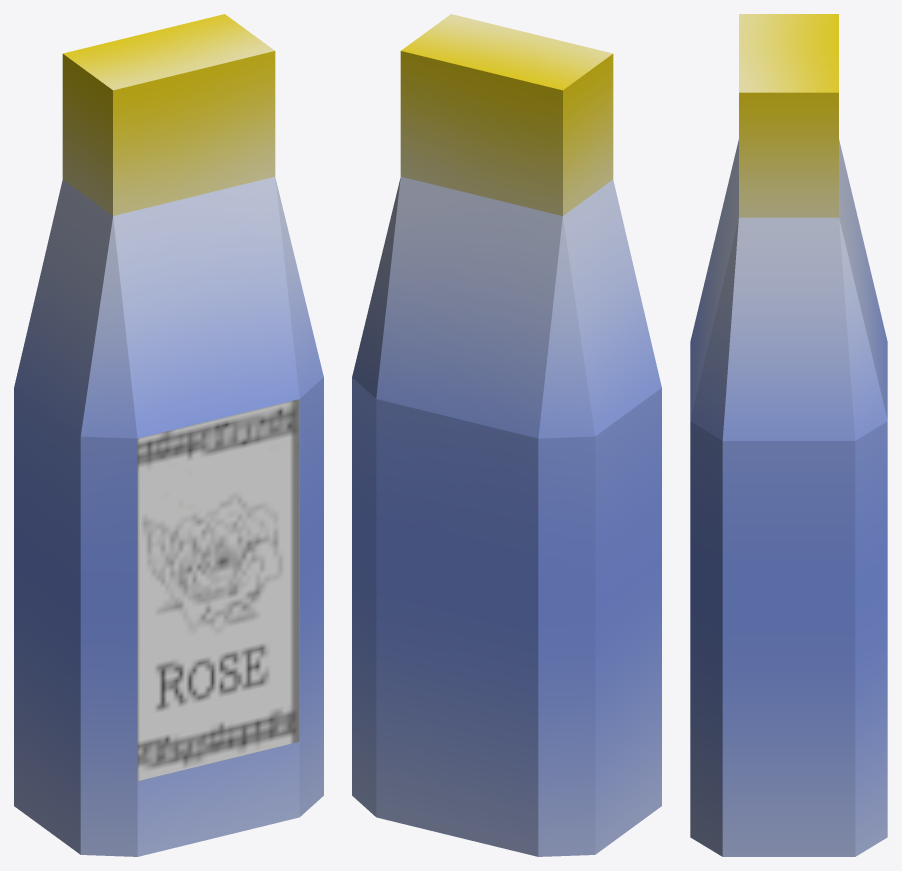
Rendered from giftgoods108a.fbx.
3 views of the same model, side by side, from view 1: azimuth 30°, elevation 25°; view 2: azimuth 150°, elevation 25°; view 3: azimuth 270°, elevation 25° (orthographic).
Parts seen in each view (by area): view 1: giftgoods108a; view 2: giftgoods108a; view 3: giftgoods108a.
Part boxes in pixels (x1,y1,x2,y2): giftgoods108a: (14,14,323,856); giftgoods108a: (352,14,661,856); giftgoods108a: (690,14,887,856).
Size of the model in its own units: 0.0443 by 0.1303 by 0.0313.
